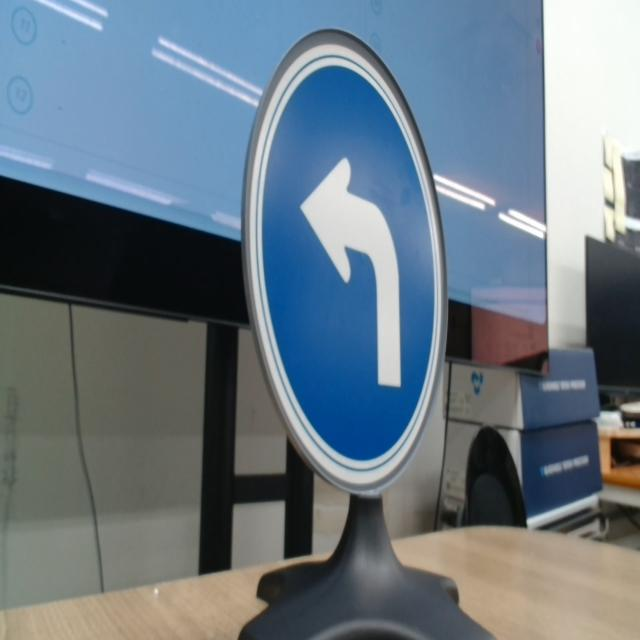left_direction: (230, 9, 464, 497)
